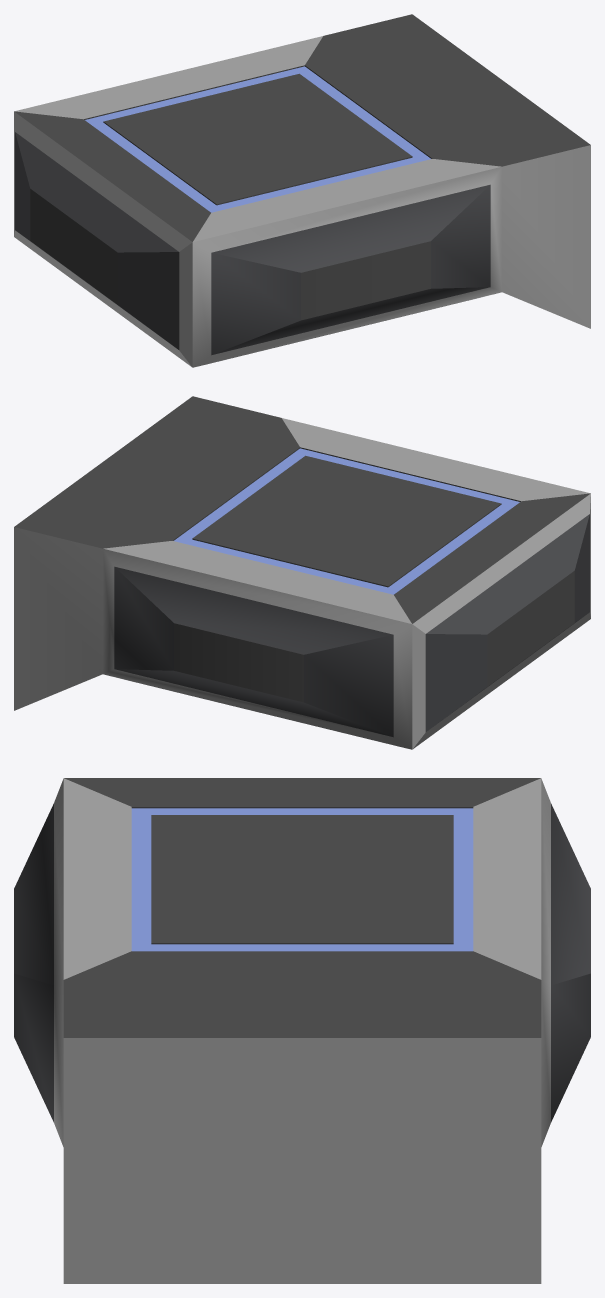
The model's file is Platform wall attach.fbx.
The picture shows the model from 3 angles, top to bottom: view 1: azimuth 30°, elevation 25°; view 2: azimuth 150°, elevation 25°; view 3: azimuth 270°, elevation 25°; orthographic projection. The views are drawn at different scales.
Visible parts, largest first — view 1: Platform_asset; view 2: Platform_asset; view 3: Platform_asset.
Part boxes in pixels (box(x1,y1,x2,y2)): Platform_asset: box(14, 14, 590, 367); Platform_asset: box(14, 396, 590, 749); Platform_asset: box(14, 778, 590, 1283).
Size of the model in its own units: 367 by 151 by 321.
